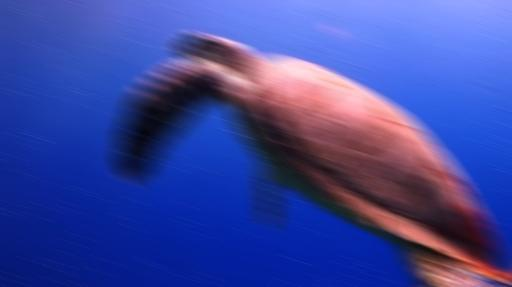Fish: (115, 34, 503, 286)
